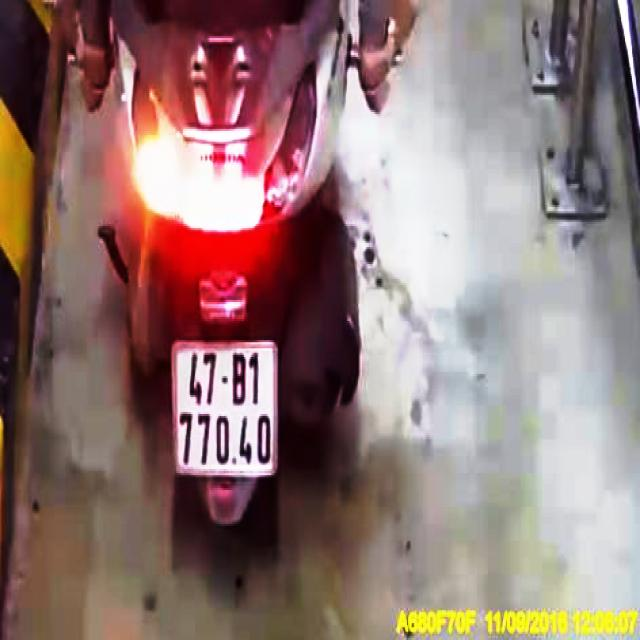license_plate: (176, 347, 274, 470)
